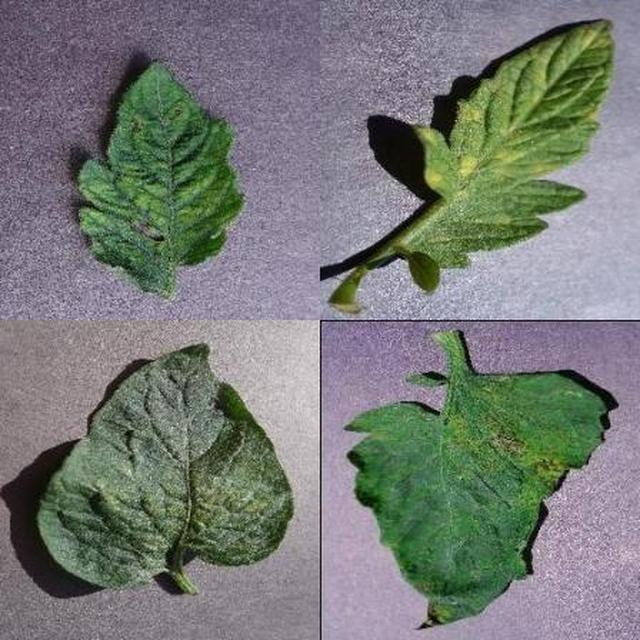Mosaic Virus Leaf: (229, 205, 640, 640)
